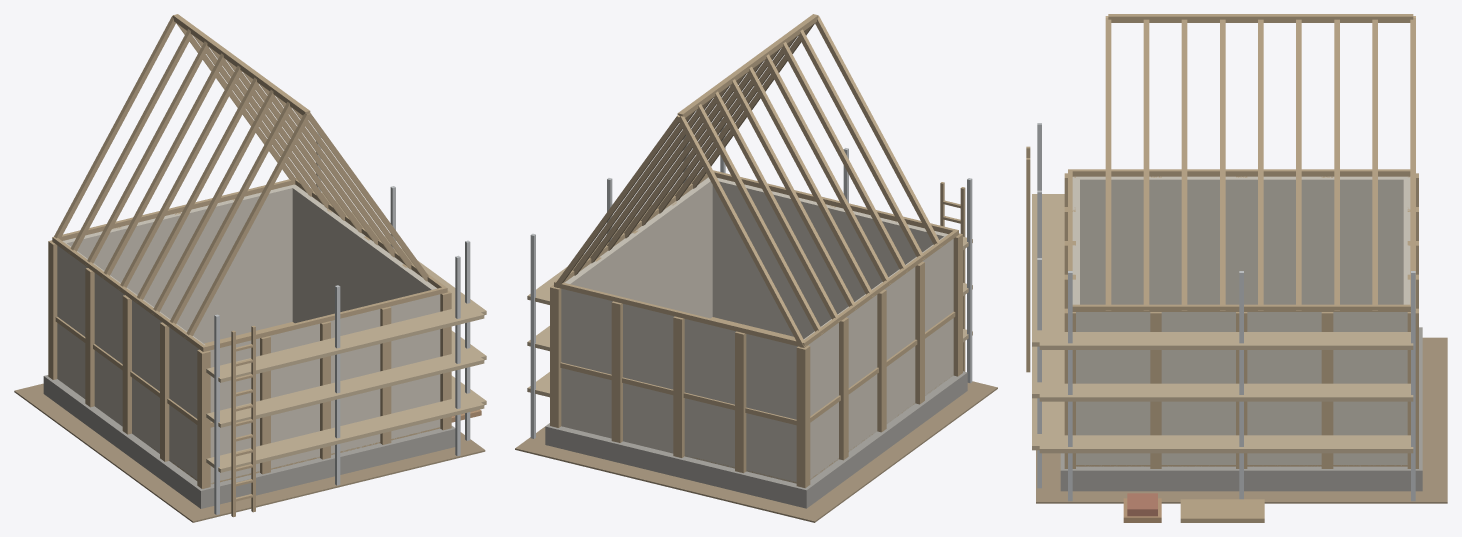
The model's file is bakery_site_9.glb.
3 views of the same model, side by side, from view 1: azimuth 30°, elevation 25°; view 2: azimuth 150°, elevation 25°; view 3: azimuth 270°, elevation 25° (orthographic). The views are drawn at different scales.
Visible parts, largest first — view 1: body; view 2: body; view 3: body.
Boxes of the visible parts, x1,y1,x2,y2 form: body: (14,14,486,522); body: (515,14,997,522); body: (1026,14,1447,522).
Bounding box in the file's own units: 2.28 × 2.35 × 2.21.
